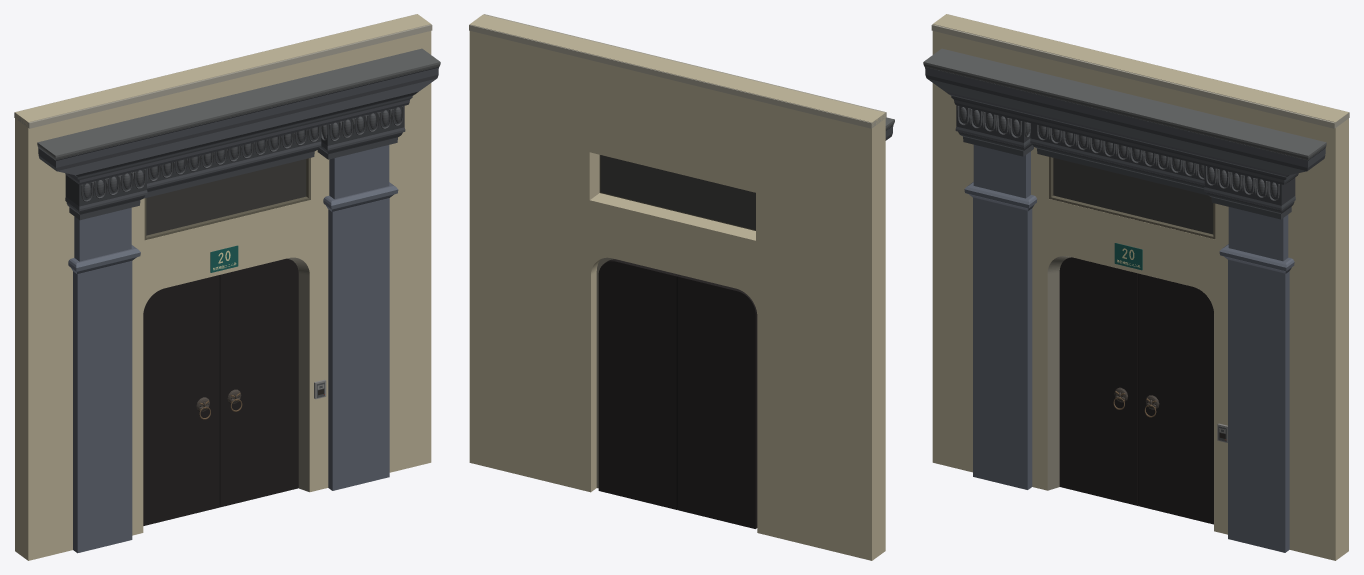
File: full-source.glb
3 views of the same model, side by side, from view 1: azimuth 30°, elevation 25°; view 2: azimuth 150°, elevation 25°; view 3: azimuth 330°, elevation 25° (orthographic).
Visible parts, largest first — view 1: 陕西南路222弄20号住宅院门; view 2: 陕西南路222弄20号住宅院门; view 3: 陕西南路222弄20号住宅院门.
Boxes of the visible parts, <box> form: 陕西南路222弄20号住宅院门: <box>14,14,440,560</box>; 陕西南路222弄20号住宅院门: <box>469,14,894,560</box>; 陕西南路222弄20号住宅院门: <box>923,14,1349,560</box>.
Size of the model in its own units: 4.05 by 4.22 by 0.564.
